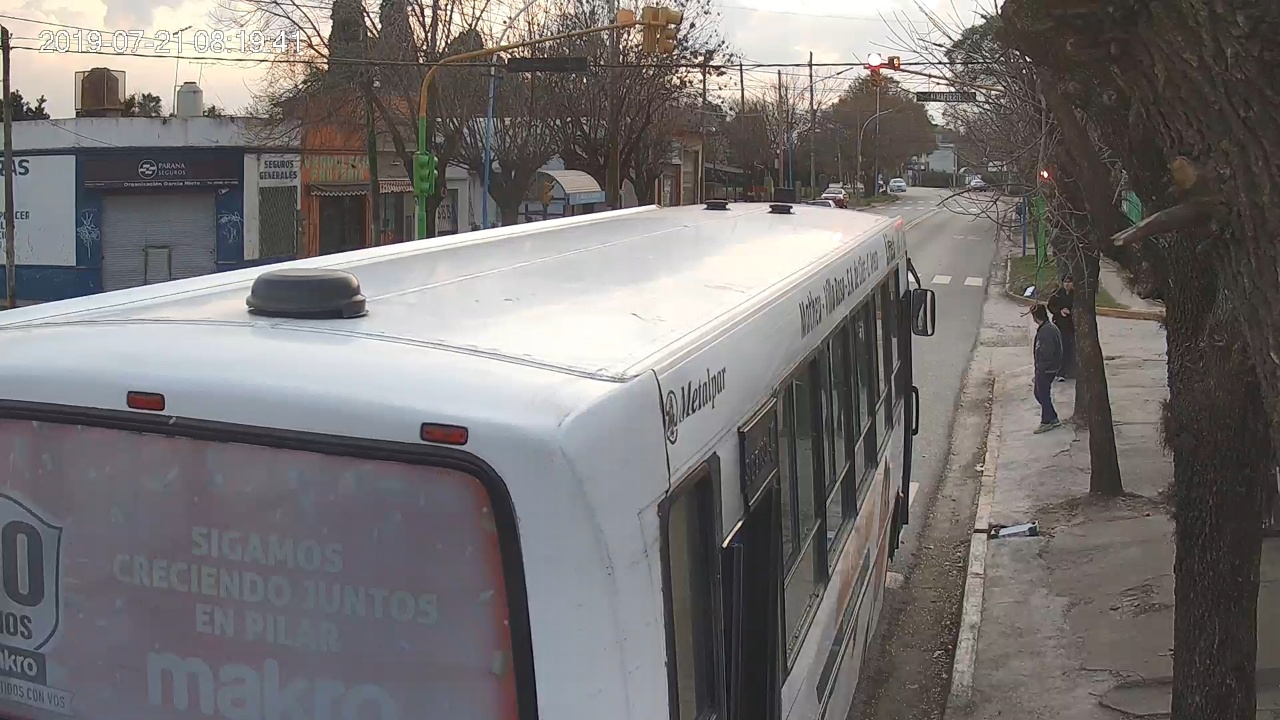bus: (2, 202, 938, 720)
traffic light: (867, 53, 882, 86)
